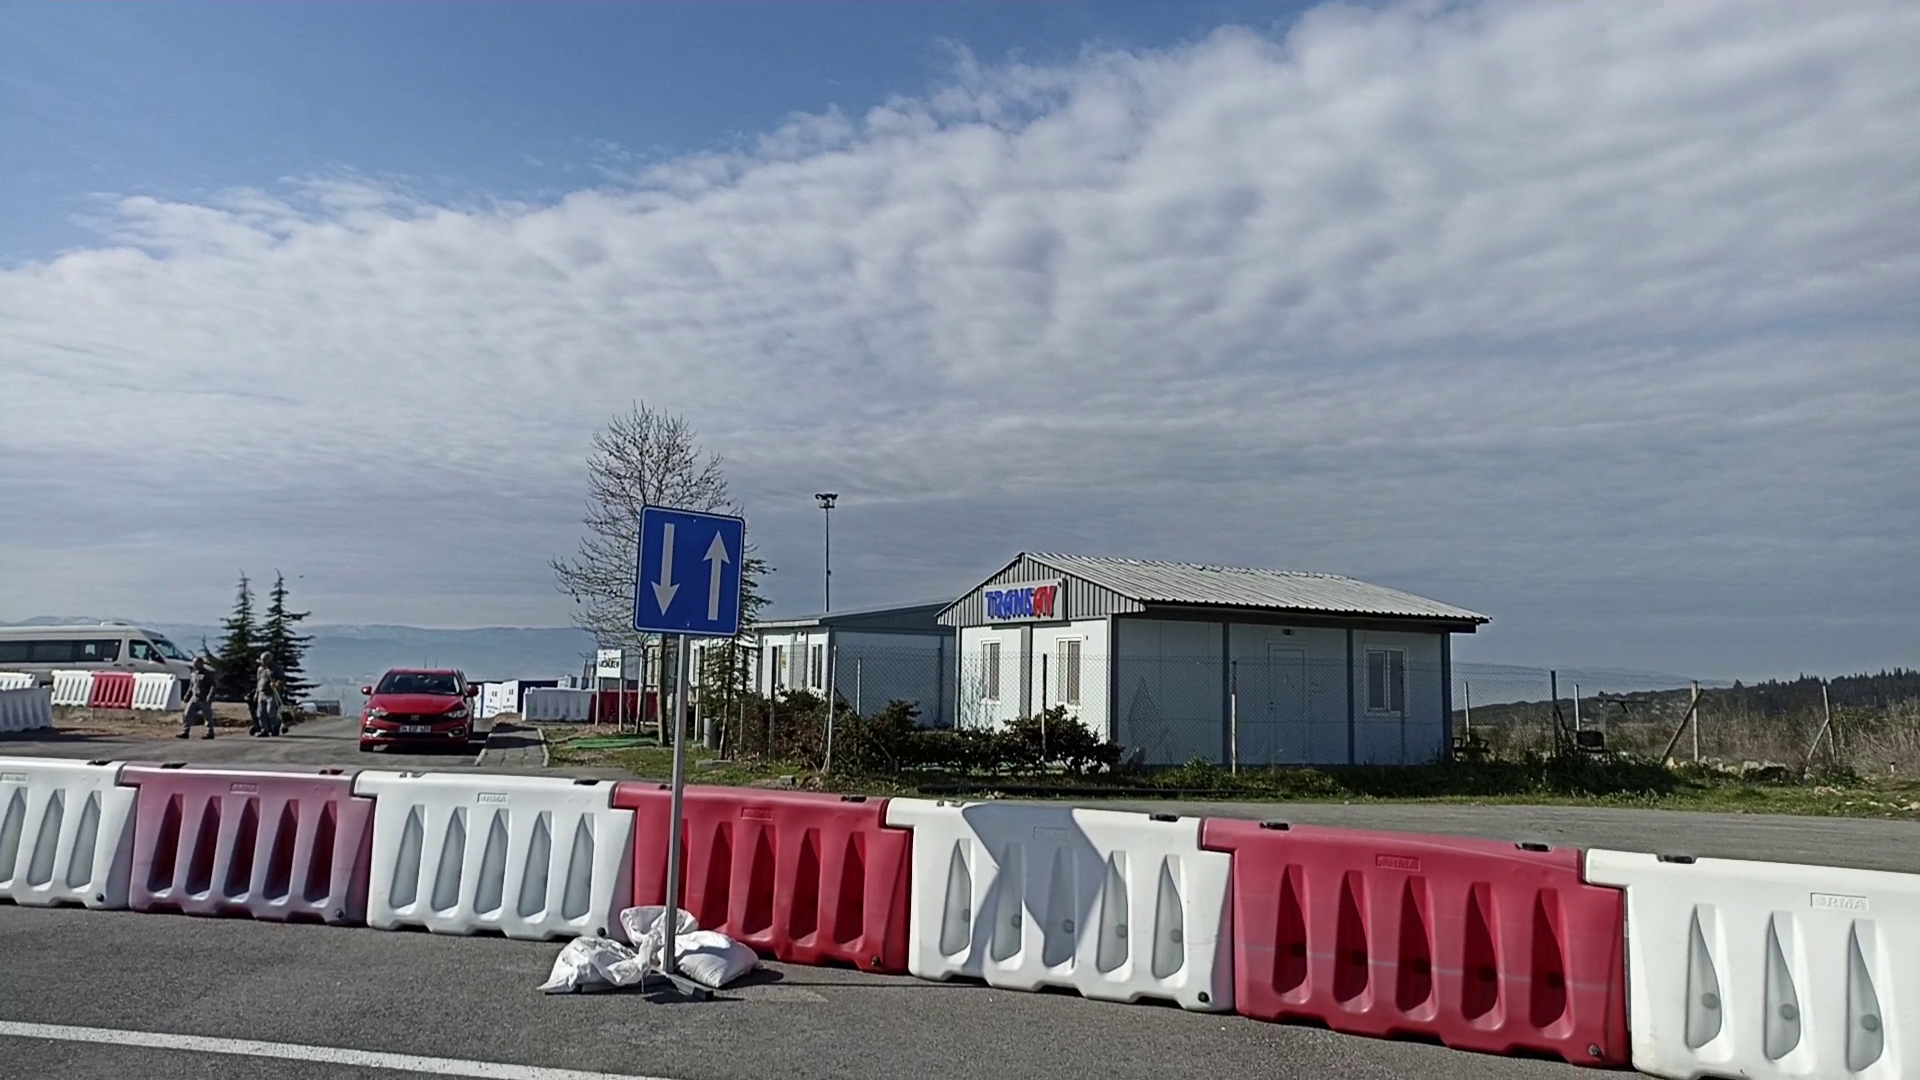oneway: (632, 504, 746, 640)
